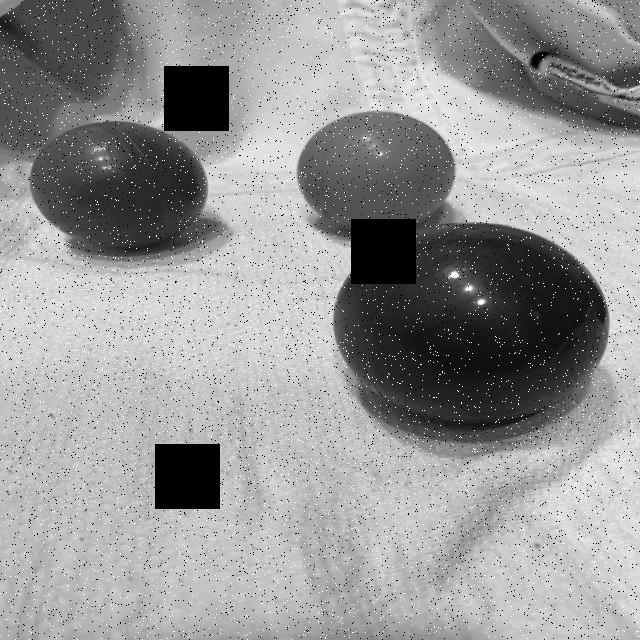ball: (328, 219, 616, 426), (26, 118, 210, 252), (297, 109, 459, 236)
